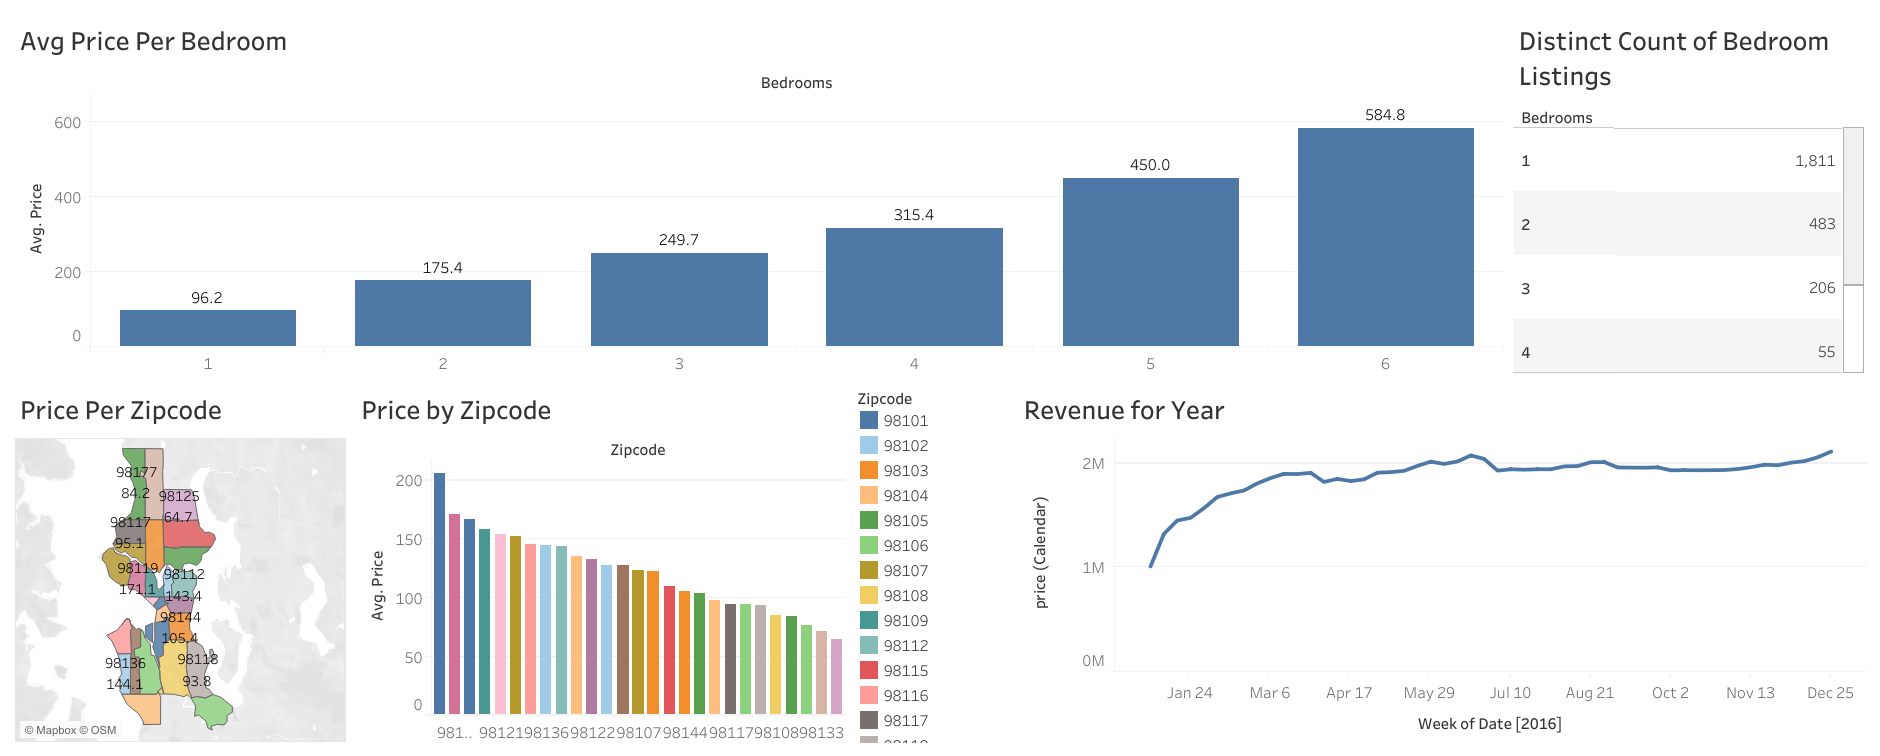

The dashboard page shown, as its layout file describes it:
{"tool":"tableau","page":{"name":"Dashboard 1","canvas":[1000,1000],"units":"permille","ordinal":0},"visuals":[{"type":"worksheet","title":"Sheet 1","mark":"Automatic","box":[4.9,9.4,450.3,173.9]},{"type":"worksheet","title":"Sheet 3","mark":"Automatic","box":[455.2,9.4,458.7,490.6]},{"type":"legend","title":"Sheet 3","param":"[federated.1irvpob0sk3w7m162g3rn09aqevq].[sum:percent_population_infected:qk]","box":[913.9,9.4,81.2,149.2]},{"type":"worksheet","title":"Sheet 2","mark":"Automatic","rows":["total_death_count"],"cols":["location"],"box":[4.9,183.3,450.3,316.7]},{"type":"worksheet","title":"Sheet 4","mark":"Automatic","rows":["percent_population_infected"],"cols":["date"],"box":[4.9,500,909,490.6]},{"type":"legend","title":"Sheet 4","param":"[federated.082um7s1wrovn5106jan00x7q42b].[none:location:nk]\n[federated.082um7s1w","box":[913.9,500.6,81.2,490]}]}

Visuals, with their boxes on the dashboard's canvas, which has no fixed pixel size, in thousandths of its width and height (x1, y1, x2, y2). These are canvas units, not pixel positions in the 1880x756 screenshot, which may show the page scaled, cropped or inside an application window:
"Sheet 1" worksheet: locate(5, 9, 455, 183)
"Sheet 3" worksheet: locate(455, 9, 914, 500)
"Sheet 3" legend: locate(914, 9, 995, 159)
"Sheet 2" worksheet: locate(5, 183, 455, 500)
"Sheet 4" worksheet: locate(5, 500, 914, 991)
"Sheet 4" legend: locate(914, 501, 995, 991)
